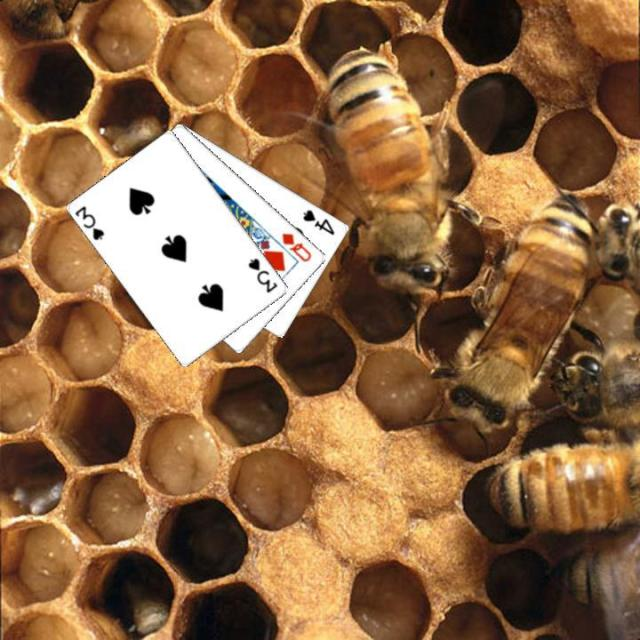3S: (71, 202, 107, 242), (245, 254, 279, 294)
4S: (299, 206, 337, 237)
QD: (278, 229, 314, 264)
